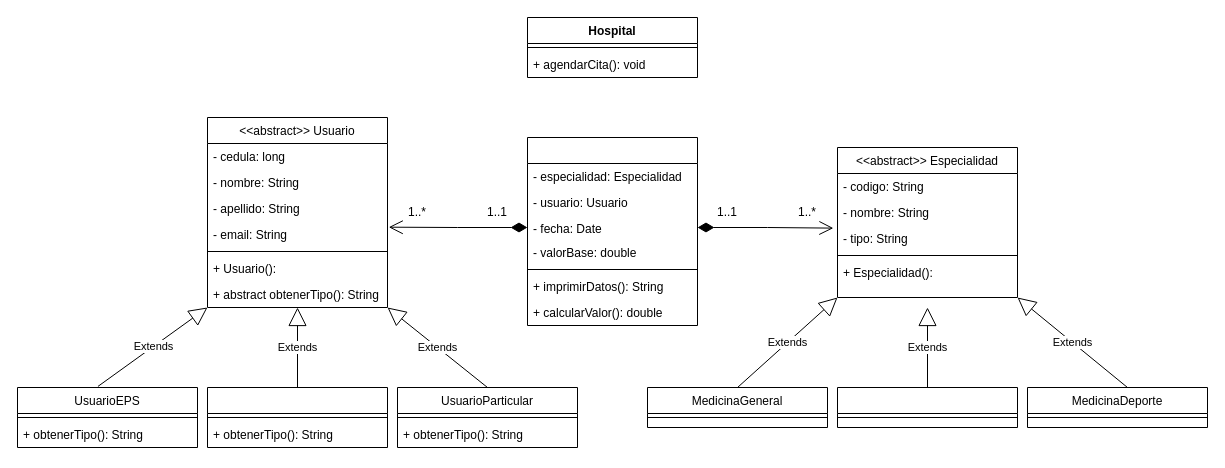
Some shapes in this 1225 by 468 pixel diagram are drawn without their labels. The box of each missing label's shape, as (x1, y1, x2, y2) in pixels:
Cita: (526, 136, 698, 326)
MedicinaInterna: (836, 386, 1018, 428)
UsuarioPoliza: (206, 386, 388, 448)
